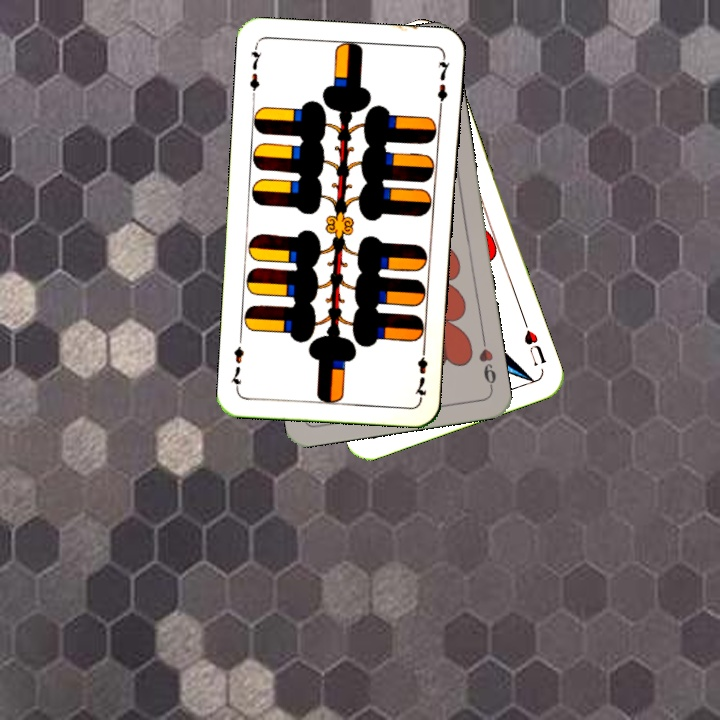E7: (411, 342, 431, 401), (245, 42, 265, 101)
H9: (475, 333, 499, 392)
HU: (519, 316, 549, 369)
